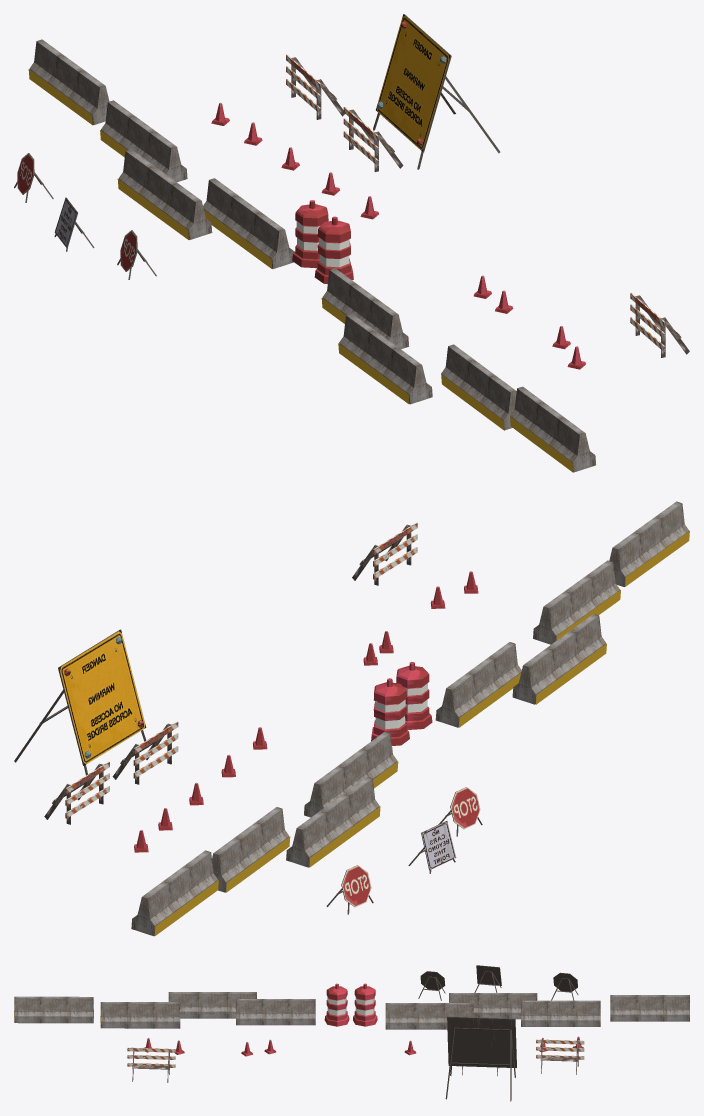
The model's file is sfw_roadblock1ld.obj.
3 views of the same model, one above another, from view 1: azimuth 30°, elevation 25°; view 2: azimuth 150°, elevation 25°; view 3: azimuth 270°, elevation 25° (orthographic). The views are drawn at different scales.
Visible parts, largest first — view 1: sfw_roadblock1ld; view 2: sfw_roadblock1ld; view 3: sfw_roadblock1ld.
Boxes of the visible parts, x1=… form: sfw_roadblock1ld: x1=14, y1=14, x2=689, y2=472; sfw_roadblock1ld: x1=14, y1=501, x2=689, y2=936; sfw_roadblock1ld: x1=14, y1=965, x2=689, y2=1101.
Size of the model in its own units: 16.27 by 4.79 by 36.53.
Materials: 4 (4 with a texture image).
